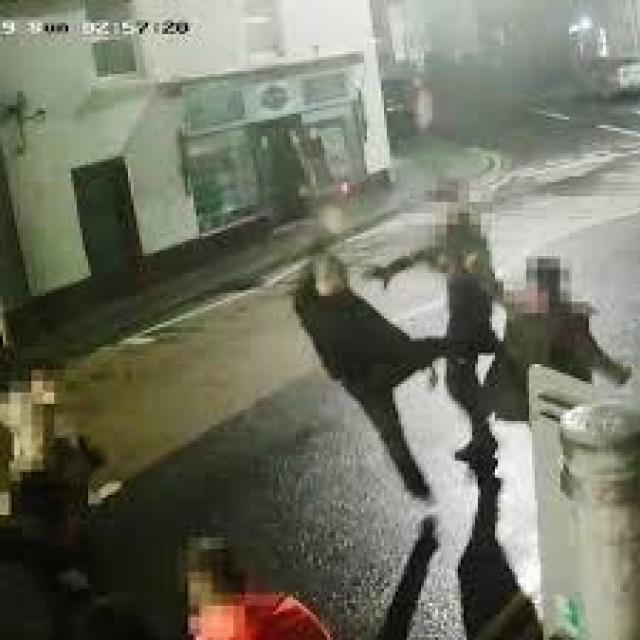fight: (272, 165, 602, 475)
